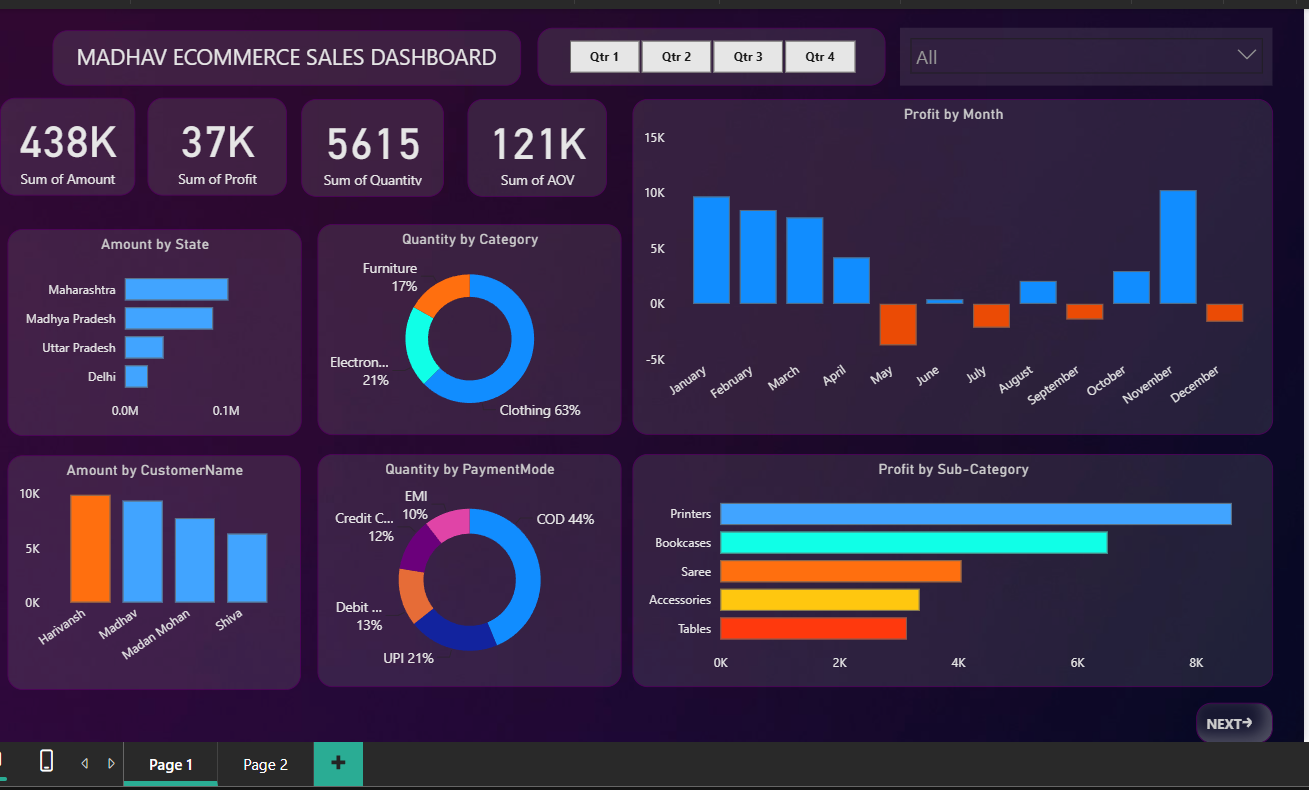

What the dashboard file says about the page in this screenshot:
{"tool":"powerbi","page":{"name":"Page 1","canvas":[1280,720],"ordinal":0},"visuals":[{"type":"textbox","box":[51.4,21.4,460,54.3],"z":0},{"type":"columnChart","title":" Profit by Month","fields":{"Y":["Sum(Details.Profit)"],"Category":["Orders.Order Date.Variation.Date Hierarchy.Month"]},"box":[620.3,88.6,629.1,329.3],"z":1000},{"type":"barChart","fields":{"Y":["Sum(Details.Profit)"],"Category":["Details.Sub-Category"]},"box":[620.3,437.2,629.1,228.9],"z":2000},{"type":"donutChart","fields":{"Category":["Details.Category"],"Y":["Sum(Details.Quantity)"]},"box":[311.4,211.4,298.6,207.1],"z":3000},{"type":"donutChart","fields":{"Y":["Sum(Details.Quantity)"],"Category":["Details.PaymentMode"]},"box":[311.6,437.2,298.3,228.9],"z":4000},{"type":"card","fields":{"Values":["Sum(Details.Amount)"]},"box":[0,87.1,132.9,95.7],"z":5000},{"type":"card","fields":{"Values":["Sum(Details.Quantity)"]},"box":[295.7,88.6,140,95.7],"z":6000},{"type":"card","fields":{"Values":["Sum(Details.Profit)"]},"box":[144.3,87.1,137.1,95.7],"z":7000},{"type":"card","fields":{"Values":["Sum(Details.AOV)"]},"box":[458.6,88.6,137.1,95.7],"z":8000},{"type":"barChart","fields":{"Category":["Orders.State"],"Y":["Sum(Details.Amount)"]},"box":[7.1,215.7,288.6,202.9],"z":9000},{"type":"columnChart","fields":{"Category":["Orders.CustomerName"],"Y":["Sum(Details.Amount)"]},"box":[7.4,438.6,288,230.4],"z":10000},{"type":"slicer","fields":{"Values":["Orders.Order Date.Variation.Date Hierarchy.Quarter"]},"box":[527.1,18.6,341.4,57.1],"z":11000},{"type":"slicer","fields":{"Values":["Orders.State"]},"box":[882.9,18.6,365.7,57.1],"z":12000},{"type":"actionButton","box":[1174.1,680.8,75.3,39.9],"z":13000}]}

Visuals, with their boxes on the page's 1280x720 design canvas (x1, y1, x2, y2). These are canvas units, not pixel positions in the 1309x790 screenshot, which may show the page scaled, cropped or inside an application window:
textbox: x1=51 y1=21 x2=511 y2=76
" Profit by Month" columnChart: x1=620 y1=89 x2=1249 y2=418
barChart - Sum(Details.Profit) x Details.Sub-Category: x1=620 y1=437 x2=1249 y2=666
donutChart - Details.Category x Sum(Details.Quantity): x1=311 y1=211 x2=610 y2=418
donutChart - Sum(Details.Quantity) x Details.PaymentMode: x1=312 y1=437 x2=610 y2=666
card - Sum(Details.Amount): x1=0 y1=87 x2=133 y2=183
card - Sum(Details.Quantity): x1=296 y1=89 x2=436 y2=184
card - Sum(Details.Profit): x1=144 y1=87 x2=281 y2=183
card - Sum(Details.AOV): x1=459 y1=89 x2=596 y2=184
barChart - Orders.State x Sum(Details.Amount): x1=7 y1=216 x2=296 y2=419
columnChart - Orders.CustomerName x Sum(Details.Amount): x1=7 y1=439 x2=295 y2=669
slicer - Orders.Order Date.Variation.Date Hierarchy.Quarter: x1=527 y1=19 x2=868 y2=76
slicer - Orders.State: x1=883 y1=19 x2=1249 y2=76
actionButton: x1=1174 y1=681 x2=1249 y2=721
